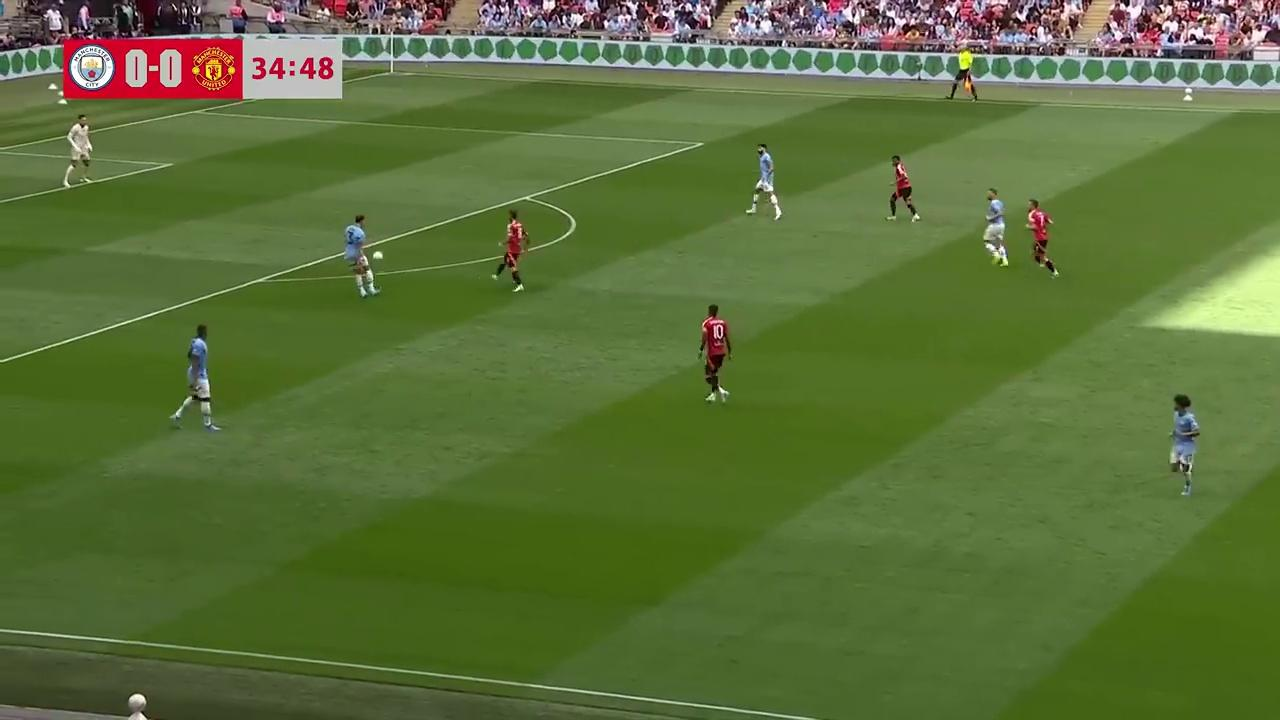ball: (372, 247, 384, 261)
player: (169, 323, 221, 432), (698, 304, 731, 404), (1168, 394, 1200, 496), (339, 215, 375, 299), (745, 143, 783, 221), (491, 212, 528, 292), (1025, 199, 1059, 278), (886, 154, 920, 223), (62, 114, 93, 188), (983, 190, 1009, 267)
referee: (946, 46, 979, 101)
